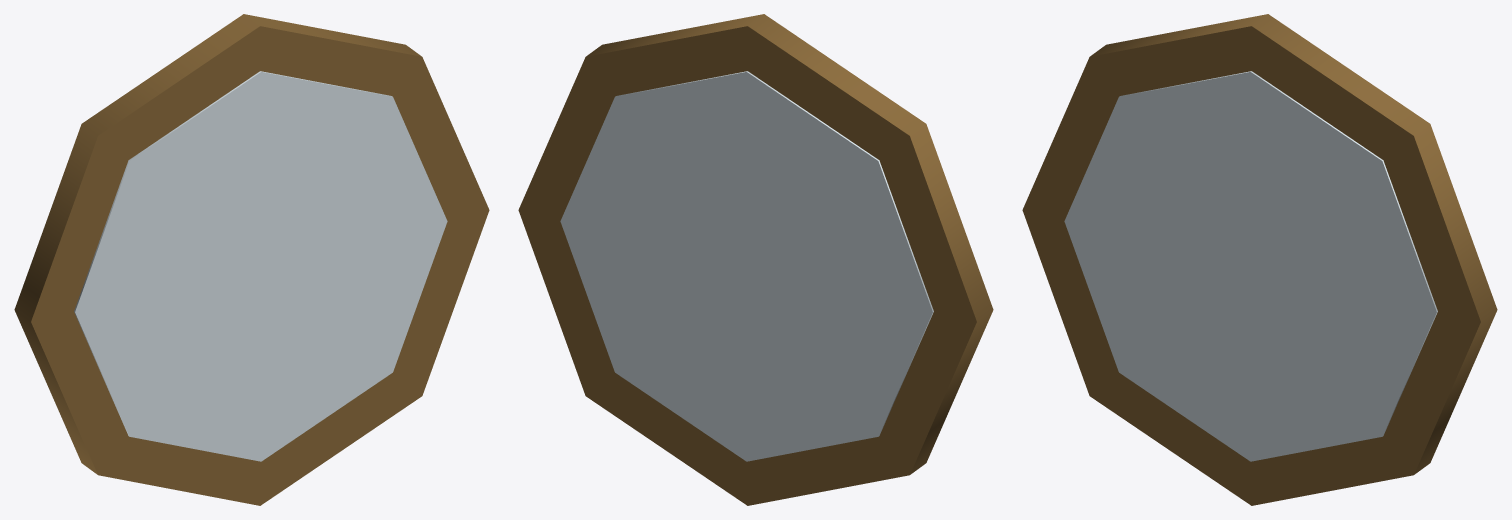
Rendered from mirror-octagon.glb.
3 renders of one model, left to right at view 1: azimuth 30°, elevation 25°; view 2: azimuth 150°, elevation 25°; view 3: azimuth 330°, elevation 25°, orthographic.
Parts seen in each view (by area): view 1: mirror-octagon; view 2: mirror-octagon; view 3: mirror-octagon.
Part boxes in pixels (x1=…): mirror-octagon: x1=14, y1=14, x2=489, y2=505; mirror-octagon: x1=518, y1=14, x2=993, y2=505; mirror-octagon: x1=1022, y1=14, x2=1497, y2=505.
Bounding box in the file's own units: 0.64 × 0.64 × 0.045.
